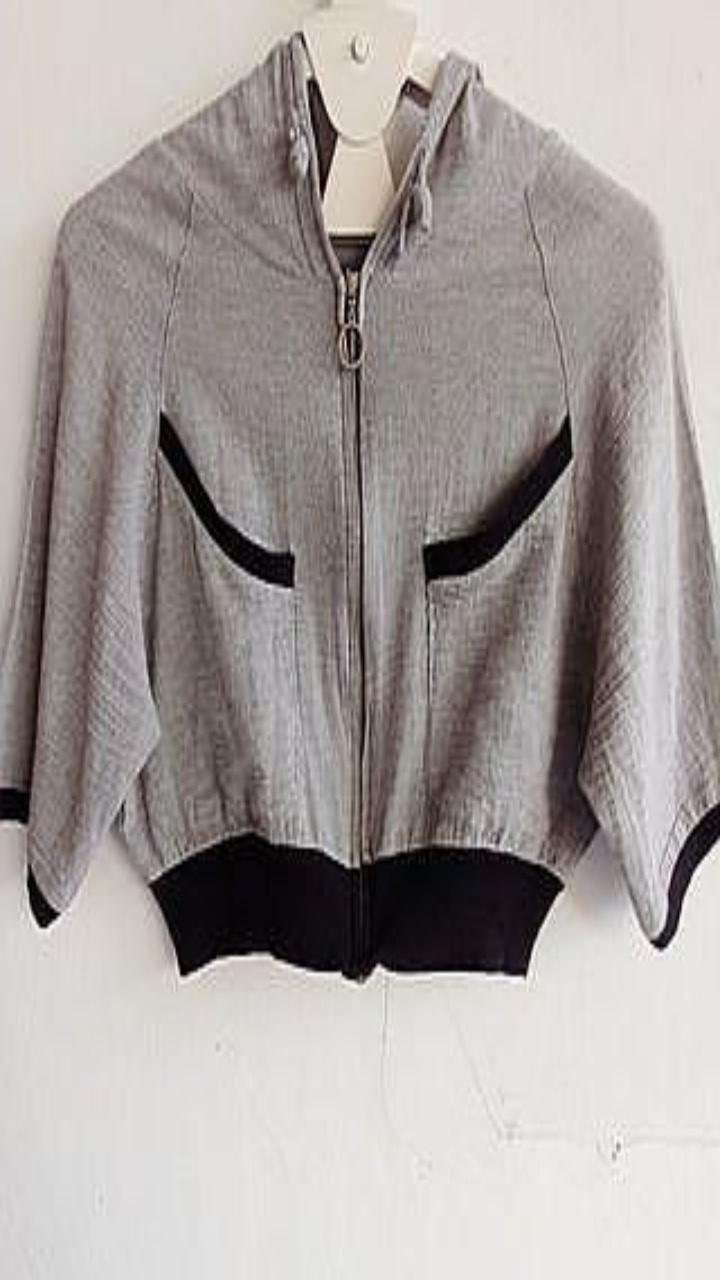Sports_Jacket: (0, 31, 719, 978)
